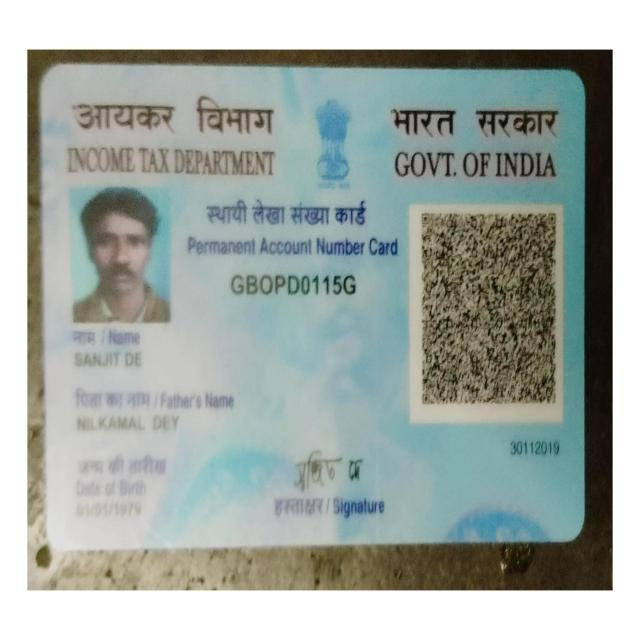pan_card: (42, 69, 581, 553)
